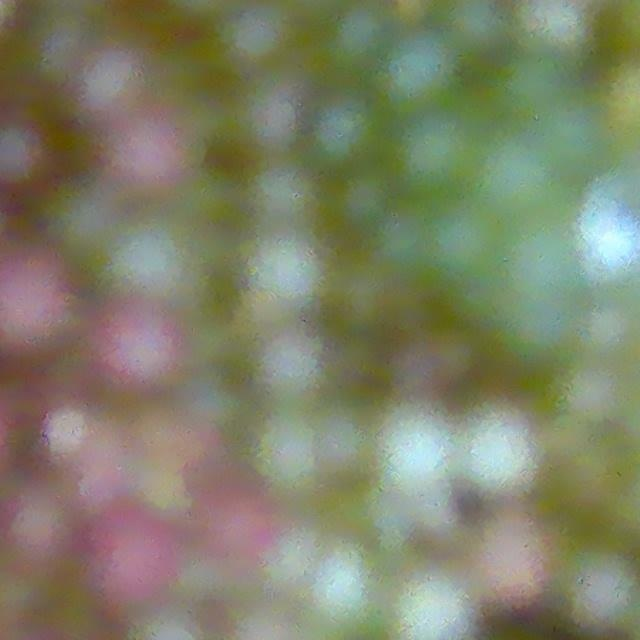SeaGrape: (79, 516, 176, 619), (106, 212, 203, 304), (0, 244, 73, 366), (299, 547, 389, 640), (388, 111, 479, 199), (182, 466, 257, 569), (245, 229, 334, 314), (0, 485, 71, 591), (377, 26, 462, 114), (375, 409, 461, 495), (102, 299, 171, 400), (388, 566, 481, 640), (307, 89, 388, 172), (250, 411, 327, 498), (466, 408, 539, 499), (474, 137, 556, 216), (504, 223, 582, 302), (229, 73, 305, 154), (569, 549, 636, 639), (307, 401, 379, 484), (255, 329, 332, 406), (423, 207, 501, 283), (219, 0, 299, 73), (247, 156, 322, 230), (516, 0, 597, 64), (324, 0, 394, 74), (0, 122, 56, 208), (445, 0, 511, 59), (564, 364, 625, 426), (335, 169, 395, 232), (582, 303, 639, 362), (269, 531, 316, 598), (130, 599, 194, 640)
